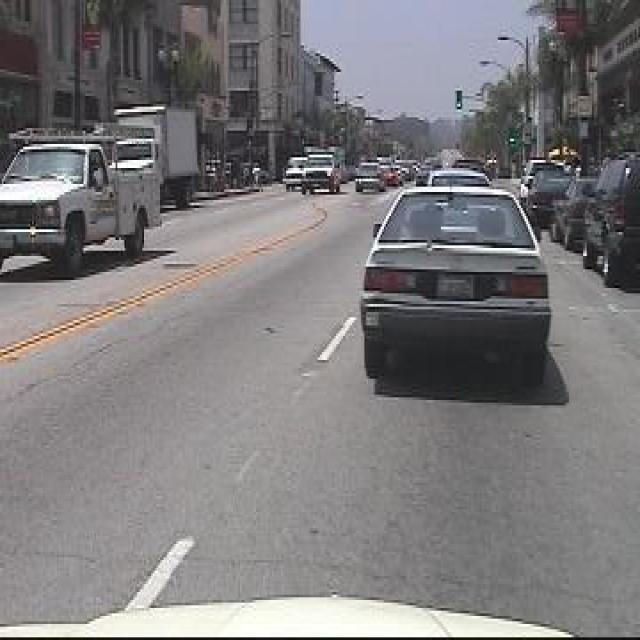car_back: (351, 167, 558, 389)
